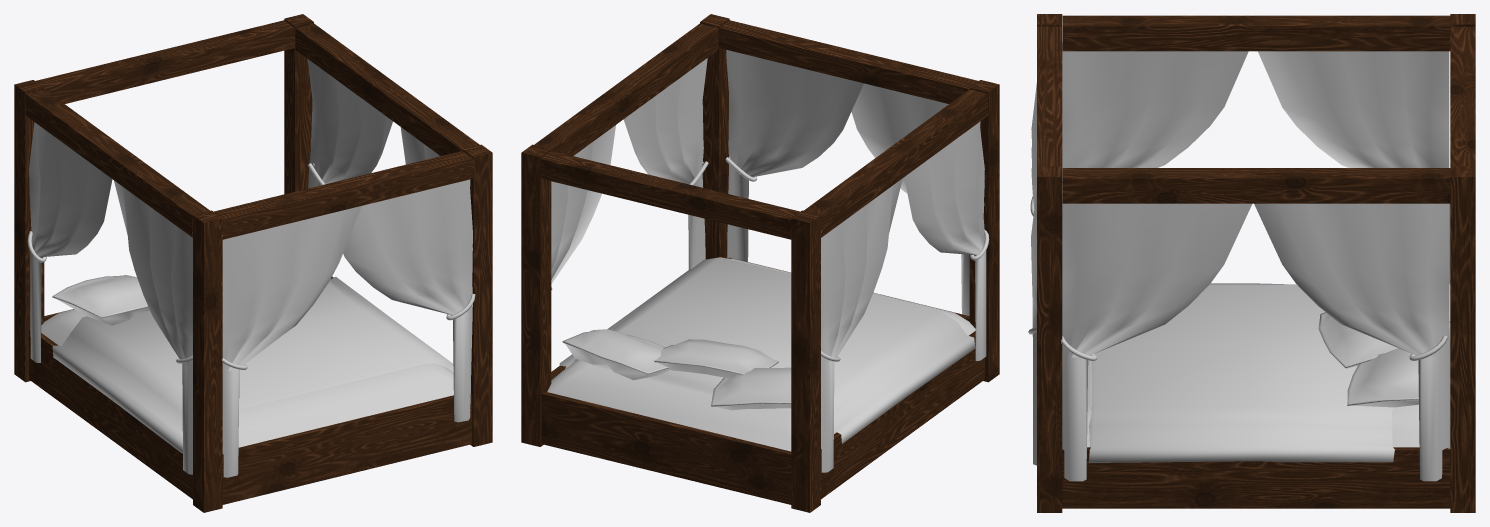
File: Bed.fbx
3 renders of one model, left to right at view 1: azimuth 30°, elevation 25°; view 2: azimuth 150°, elevation 25°; view 3: azimuth 270°, elevation 25°, orthographic. The views are drawn at different scales.
Parts seen in each view (by area): view 1: Кровать, Постельное белье, Зановеска.005, Зановеска, Зановеска.004, Зановеска.003, Зановеска.002, Подушка.002, Зановеска.001; view 2: Кровать, Постельное белье, Зановеска.005, Зановеска.004, Зановеска.003, Зановеска.001, Зановеска, Зановеска.002, Подушка.001, Подушка.003, Подушка.002; view 3: Кровать, Постельное белье, Зановеска.002, Зановеска.001, Зановеска.004, Зановеска.003, Подушка.001, Подушка.003, Зановеска.005, Зановеска.
Part boxes in pixels (box(x1,y1,x2,y2)): Кровать: box(14, 14, 492, 512); Постельное белье: box(41, 276, 453, 453); Зановеска.005: box(343, 179, 475, 422); Зановеска: box(222, 206, 361, 477); Зановеска.004: box(27, 122, 112, 362); Зановеска.003: box(114, 180, 192, 474); Зановеска.002: box(307, 59, 392, 188); Подушка.002: box(52, 275, 149, 325); Зановеска.001: box(400, 127, 440, 164); Кровать: box(521, 14, 999, 512); Постельное белье: box(547, 257, 975, 451); Зановеска.005: box(725, 50, 863, 261); Зановеска.004: box(821, 178, 902, 472); Зановеска.003: box(904, 121, 989, 360); Зановеска.001: box(623, 58, 708, 269); Зановеска: box(851, 83, 969, 315); Зановеска.002: box(551, 125, 615, 289); Подушка.001: box(562, 329, 670, 380); Подушка.003: box(654, 339, 778, 378); Подушка.002: box(711, 367, 791, 410); Кровать: box(1037, 14, 1475, 512); Постельное белье: box(1087, 283, 1450, 462); Зановеска.002: box(1254, 203, 1450, 481); Зановеска.001: box(1061, 198, 1252, 481); Зановеска.004: box(1258, 51, 1450, 284); Зановеска.003: box(1062, 42, 1248, 197); Подушка.001: box(1347, 348, 1418, 407); Подушка.003: box(1318, 312, 1398, 368); Зановеска.005: box(1028, 189, 1036, 465); Зановеска: box(1030, 83, 1036, 216).
Bounding box in the file's own units: 207 × 186 × 171.
